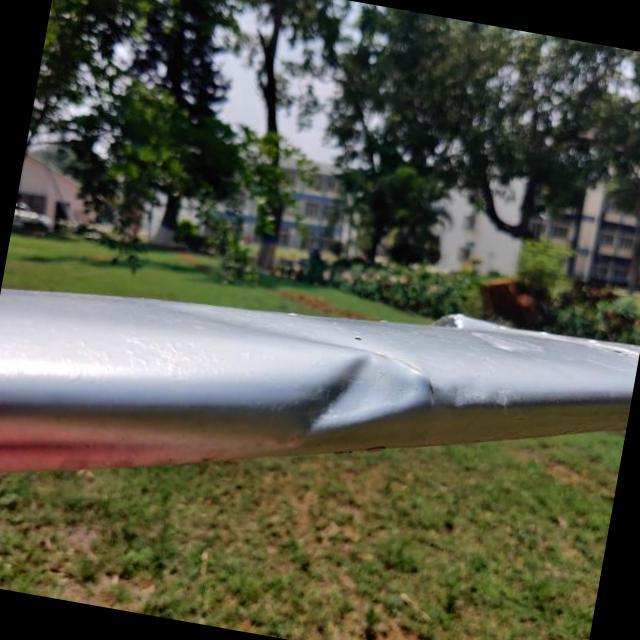Dent: (277, 330, 430, 471)
Rupture: (413, 368, 446, 412)
